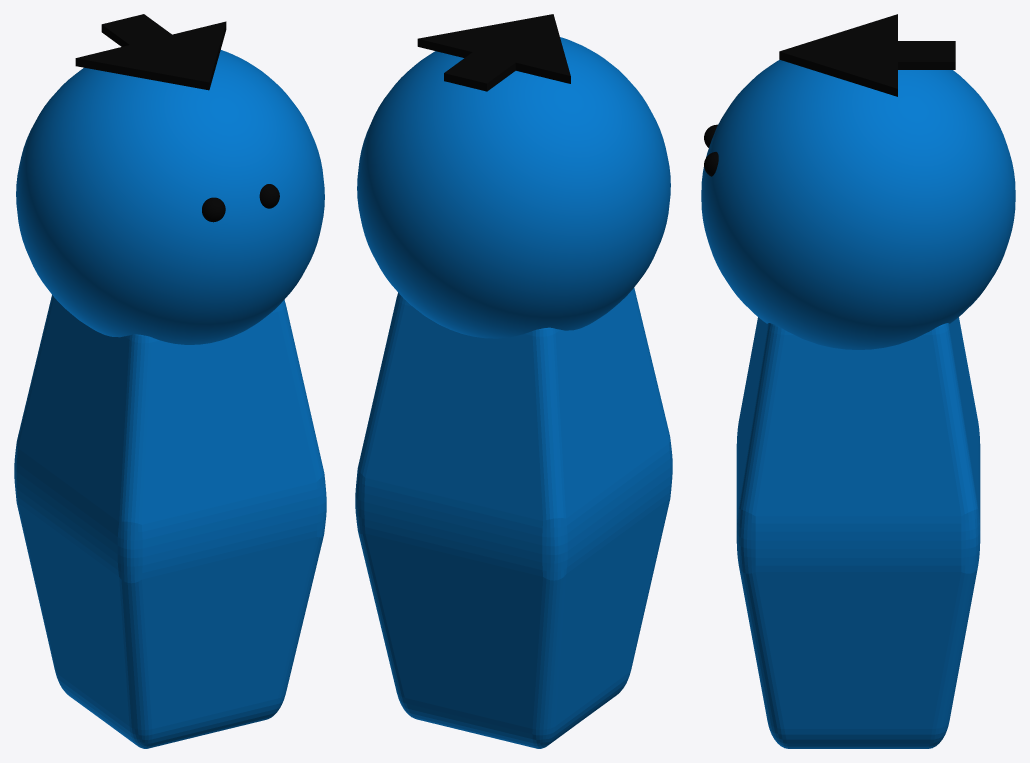
3 renders of one model, left to right at view 1: azimuth 30°, elevation 25°; view 2: azimuth 150°, elevation 25°; view 3: azimuth 270°, elevation 25°, orthographic.
Parts seen in each view (by area): view 1: Cube.006_Cube.012_Material.006, Cube.006_Cube.012_SVGMat; view 2: Cube.006_Cube.012_Material.006, Cube.006_Cube.012_SVGMat; view 3: Cube.006_Cube.012_Material.006, Cube.006_Cube.012_SVGMat.
Part boxes in pixels (left/top/right/bottom): Cube.006_Cube.012_Material.006: left=14, top=50, right=326, bottom=748; Cube.006_Cube.012_SVGMat: left=75, top=14, right=279, bottom=222; Cube.006_Cube.012_Material.006: left=355, top=37, right=672, bottom=748; Cube.006_Cube.012_SVGMat: left=417, top=14, right=570, bottom=91; Cube.006_Cube.012_Material.006: left=701, top=59, right=1015, bottom=748; Cube.006_Cube.012_SVGMat: left=704, top=14, right=955, bottom=176.
Bounding box in the file's own units: 0.2062 × 0.482 × 0.2057.
